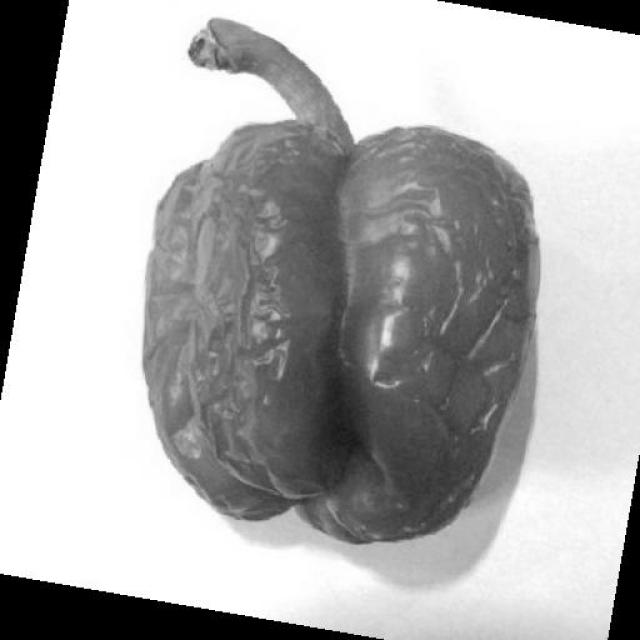Stale_Capsicum: (110, 60, 533, 535)
